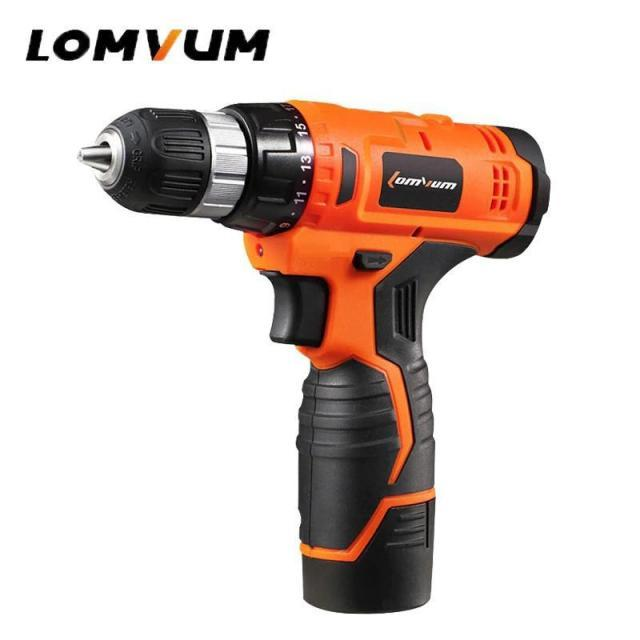drill: (77, 99, 552, 615)
